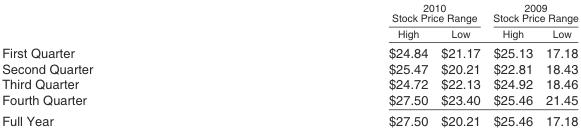table: (1, 1, 577, 127)
table column: (1, 1, 240, 127), (240, 1, 433, 127), (433, 1, 486, 127), (486, 1, 538, 127), (538, 1, 577, 127)
table column header: (1, 1, 577, 42)
table row: (1, 1, 577, 25), (1, 42, 577, 60), (1, 91, 577, 109), (1, 109, 577, 127), (1, 25, 577, 42), (1, 60, 577, 76), (1, 76, 577, 91)
table spanning cell: (240, 1, 486, 25), (486, 1, 577, 25)
